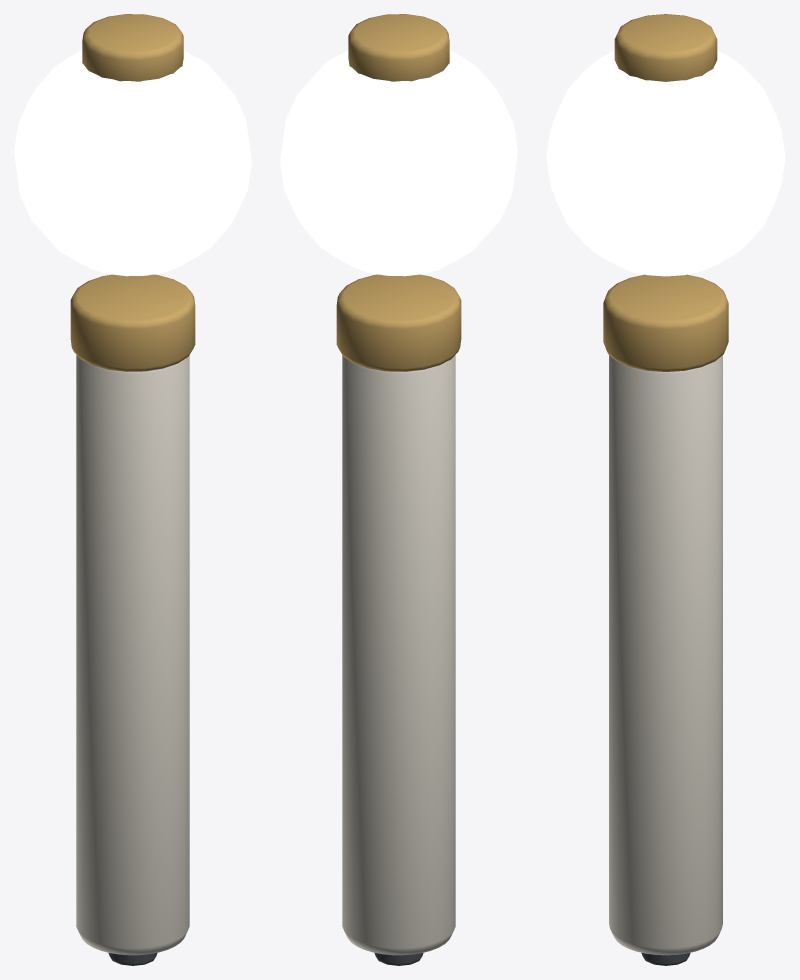
Rendered from garden_light_03.glb.
3 views of the same model, side by side, from view 1: azimuth 30°, elevation 25°; view 2: azimuth 150°, elevation 25°; view 3: azimuth 270°, elevation 25° (orthographic).
Parts seen in each view (by area): view 1: Tint, Globe, Globe collar, Globe cap; view 2: Tint, Globe, Globe collar, Globe cap; view 3: Tint, Globe, Globe collar, Globe cap.
Part boxes in pixels (left/top/right/bottom): Tint: left=76, top=355, right=189, bottom=955; Globe: left=14, top=50, right=251, bottom=276; Globe collar: left=70, top=274, right=195, bottom=371; Globe cap: left=82, top=14, right=183, bottom=81; Tint: left=342, top=355, right=455, bottom=955; Globe: left=280, top=50, right=517, bottom=276; Globe collar: left=336, top=274, right=461, bottom=371; Globe cap: left=348, top=14, right=449, bottom=81; Tint: left=609, top=355, right=722, bottom=955; Globe: left=546, top=50, right=785, bottom=276; Globe collar: left=603, top=274, right=728, bottom=371; Globe cap: left=614, top=14, right=717, bottom=81.
Size of the model in its own units: 0.21 by 0.8955 by 0.21.
